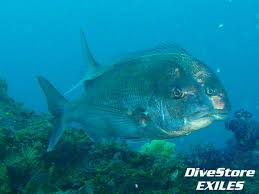tai: (35, 61, 211, 138)
